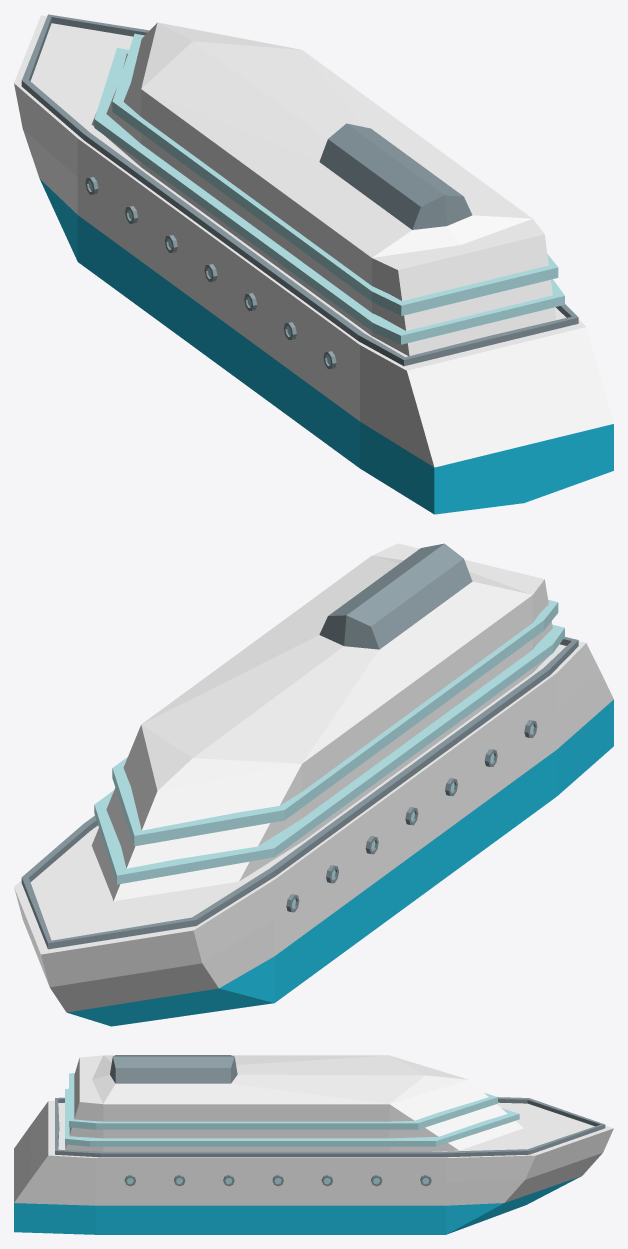
The model's file is scene_sgrDa8em1G.glb.
3 renders of one model, top to bottom at view 1: azimuth 30°, elevation 25°; view 2: azimuth 150°, elevation 25°; view 3: azimuth 270°, elevation 25°, orthographic. The views are drawn at different scales.
Visible parts, largest first — view 1: Cruise_LIner_Cube; view 2: Cruise_LIner_Cube; view 3: Cruise_LIner_Cube.
Part boxes in pixels (x1,y1,x2,y2): Cruise_LIner_Cube: [14, 14, 613, 514]; Cruise_LIner_Cube: [14, 543, 613, 1026]; Cruise_LIner_Cube: [14, 1055, 613, 1234].
Size of the model in its own units: 6.33 by 7.37 by 25.86.
